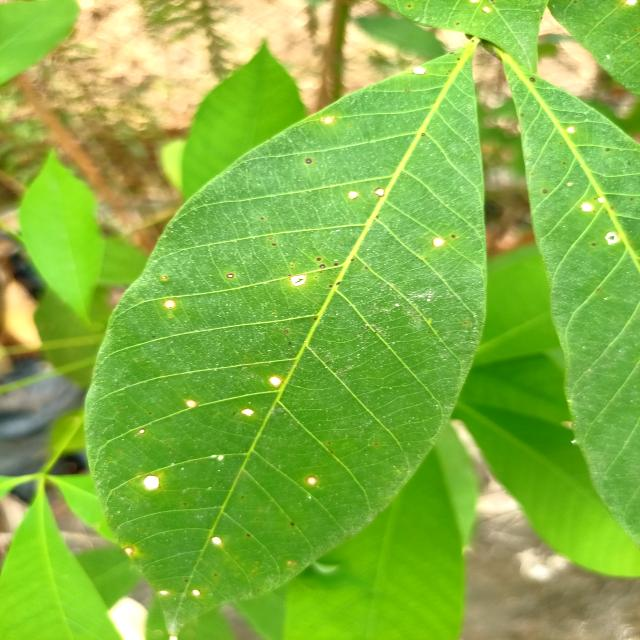Colletotrichum: (143, 475, 160, 489), (604, 232, 618, 244), (270, 375, 282, 387), (306, 475, 318, 486), (432, 238, 445, 248), (240, 408, 254, 417), (374, 188, 386, 198), (211, 536, 223, 546), (164, 300, 176, 309), (582, 202, 592, 212), (412, 68, 426, 75), (124, 546, 134, 555), (348, 192, 359, 200), (186, 400, 198, 407), (192, 589, 201, 597), (566, 127, 576, 134), (226, 273, 234, 279), (138, 428, 146, 434), (305, 158, 312, 164), (598, 198, 604, 204), (319, 264, 326, 269), (529, 78, 535, 82), (450, 235, 456, 238), (317, 257, 321, 261), (351, 258, 355, 262), (543, 190, 547, 194), (284, 330, 288, 334), (162, 276, 167, 279), (272, 243, 276, 246), (334, 263, 338, 266), (421, 133, 425, 136)
